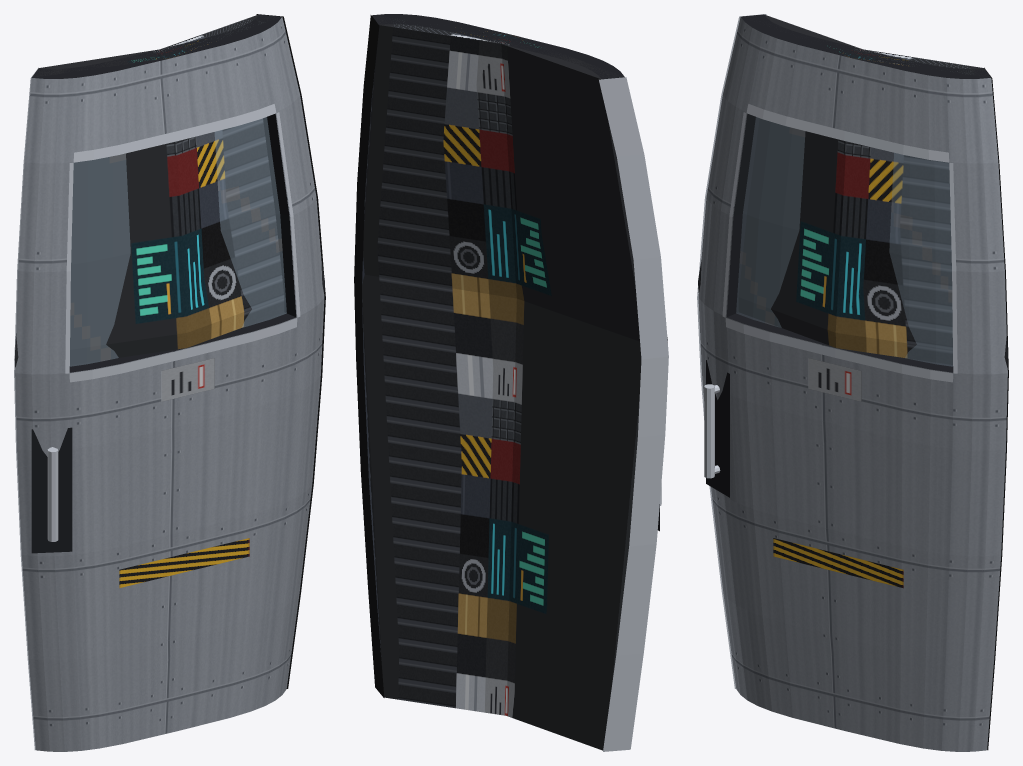
The model's file is stasis_pod_door.fbx.
3 views of the same model, side by side, from view 1: azimuth 30°, elevation 25°; view 2: azimuth 150°, elevation 25°; view 3: azimuth 330°, elevation 25° (orthographic).
Visible parts, largest first — view 1: stasis_pod_door, stasis_pod_door_phys; view 2: stasis_pod_door_phys, stasis_pod_door; view 3: stasis_pod_door, stasis_pod_door_phys.
Part boxes in pixels (box(x1,y1,x2,y2)): stasis_pod_door: box(14, 14, 325, 751); stasis_pod_door_phys: box(14, 14, 324, 367); stasis_pod_door_phys: box(362, 15, 667, 750); stasis_pod_door: box(354, 14, 668, 751); stasis_pod_door: box(697, 14, 1008, 751); stasis_pod_door_phys: box(698, 14, 1008, 367).
Size of the model in its own units: 105 by 216 by 23.56.
Materials: 3 (3 with a texture image).
